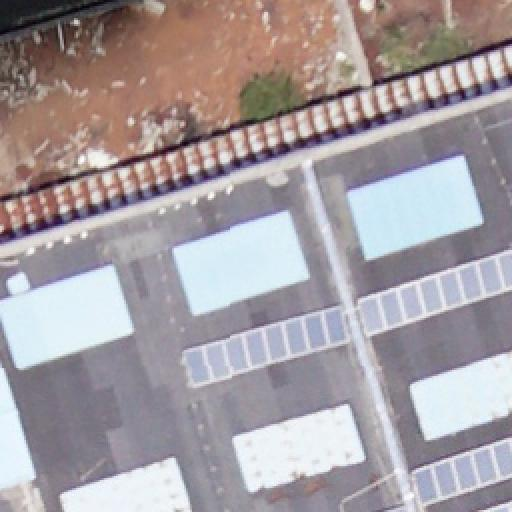solar-panel: (180, 303, 348, 385), (356, 251, 512, 333), (409, 436, 511, 508), (472, 497, 512, 511), (379, 504, 405, 512)
